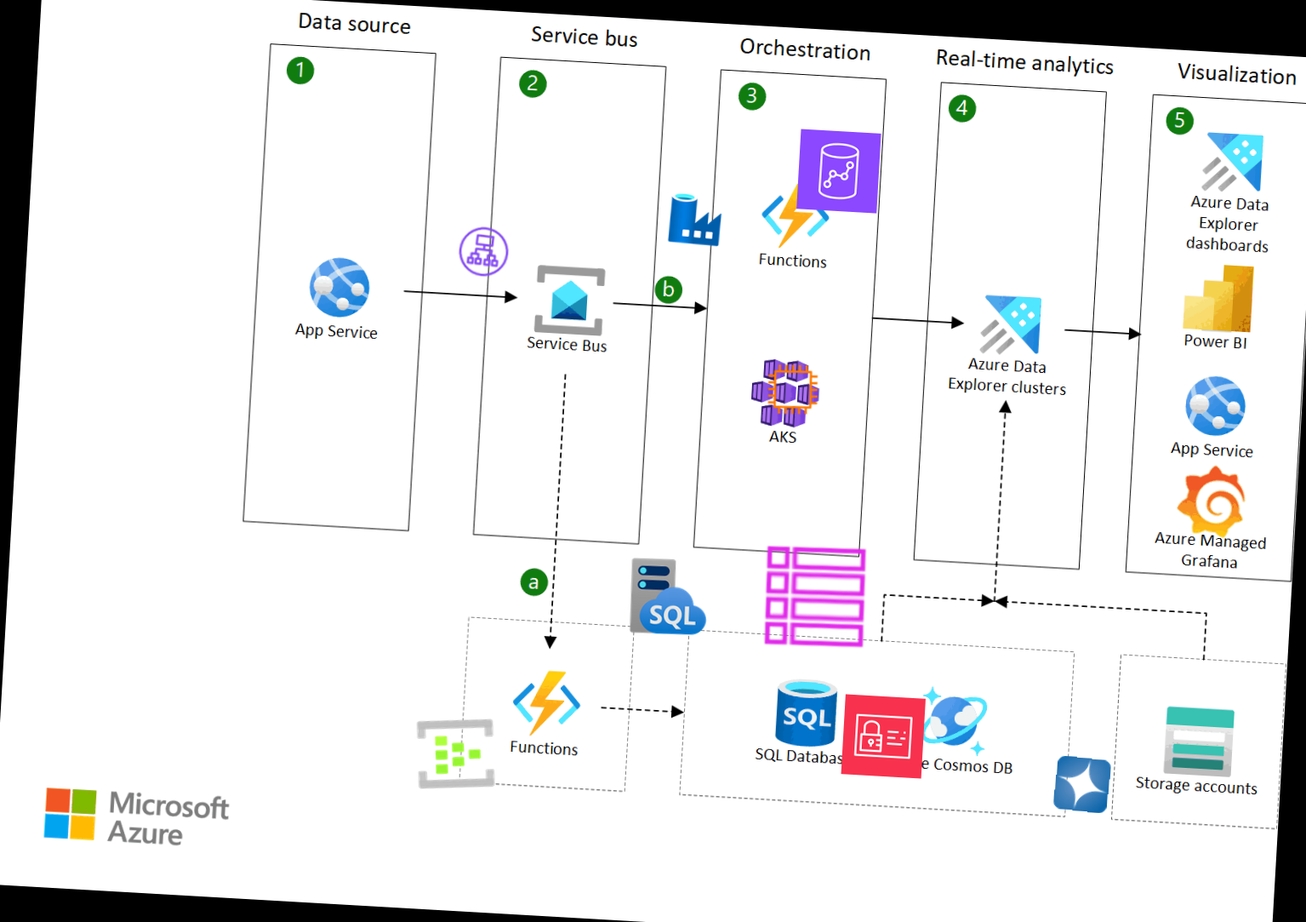aws_amazon_redshift: (796, 128, 881, 214)
aws_dynamodb_table: (756, 538, 873, 654)
aws_ec2_instance: (762, 359, 823, 419)
aws_elastic_load_balancing_application_load_balancer: (453, 221, 513, 281)
aws_identity_and_access_management: (840, 693, 927, 779)
azure_data_factories: (665, 188, 725, 249)
azure_event_hubs: (409, 707, 501, 799)
azure_openai: (1052, 754, 1112, 814)
azure_sql_managed_instance: (624, 553, 712, 640)
